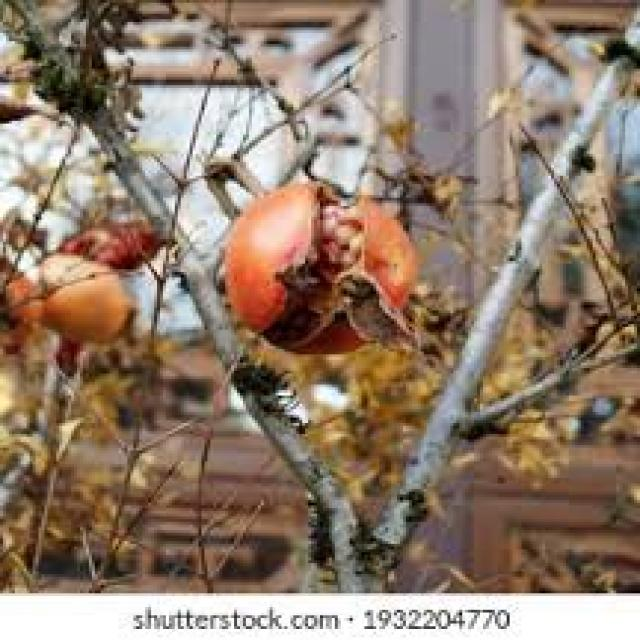overripe: (223, 180, 419, 362)
